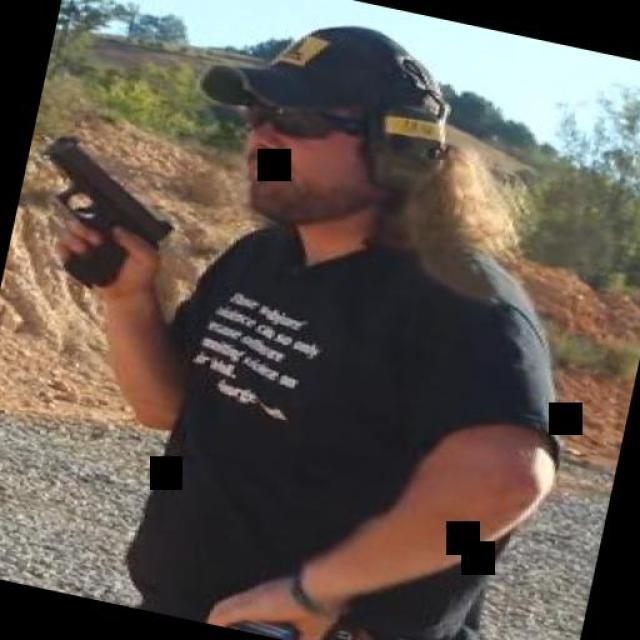gun: (14, 126, 188, 299)
